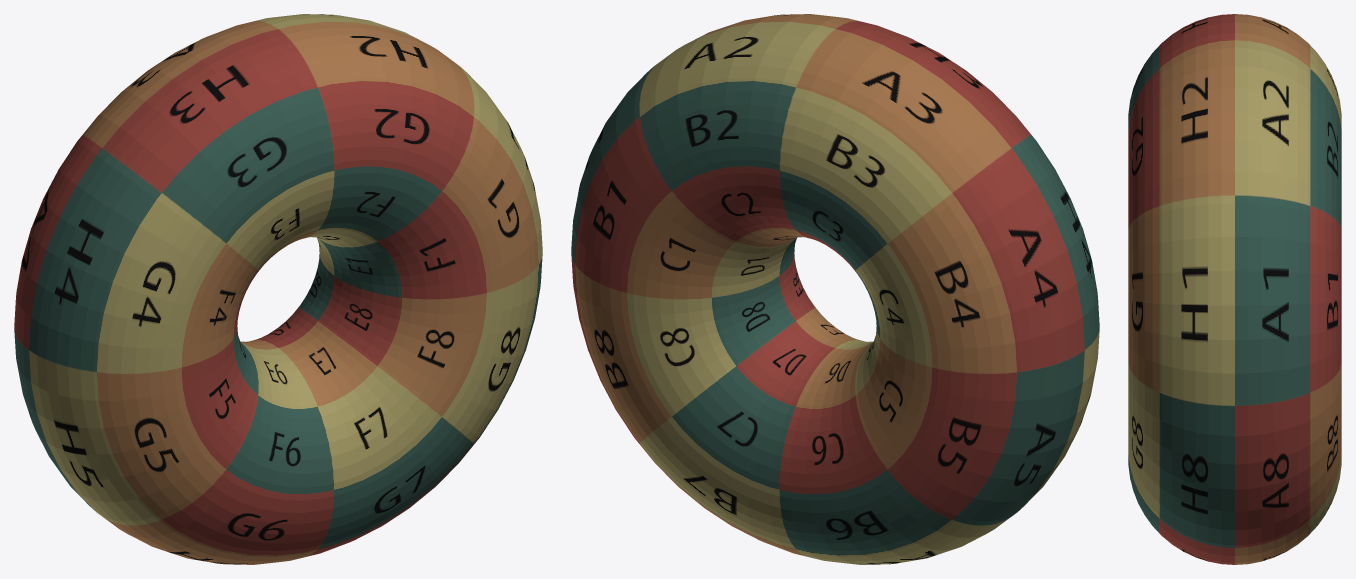
Rendered from texture_torus_R3_r21.glb.
The picture shows the model from 3 angles, left to right: view 1: azimuth 30°, elevation 25°; view 2: azimuth 150°, elevation 25°; view 3: azimuth 270°, elevation 25°; orthographic projection. The views are drawn at different scales.
Visible parts, largest first — view 1: world; view 2: world; view 3: world.
Boxes of the visible parts, x1,y1,x2,y2 form: world: (14, 14, 542, 564); world: (571, 14, 1099, 564); world: (1128, 14, 1341, 564).
Bounding box in the file's own units: 19.6 × 19.56 × 7.59.
1 material, 1 textured.
